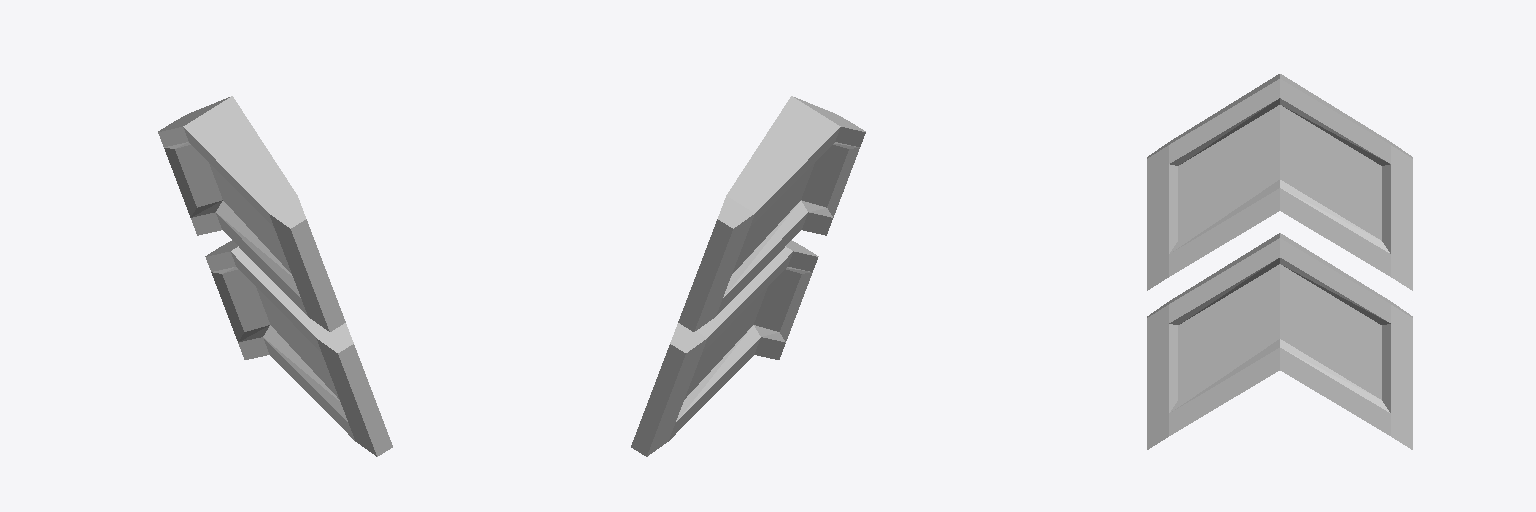
The model's file is SpeedBoost.obj.
3 renders of one model, left to right at view 1: azimuth 30°, elevation 25°; view 2: azimuth 150°, elevation 25°; view 3: azimuth 270°, elevation 25°, orthographic.
Visible parts, largest first — view 1: polySurface2; view 2: polySurface2; view 3: polySurface2.
Part boxes in pixels (x1,y1,x2,y2): polySurface2: (158,96,392,456); polySurface2: (631,96,865,456); polySurface2: (1147,74,1412,449).
Size of the model in its own units: 0.6342 by 1.38 by 1.